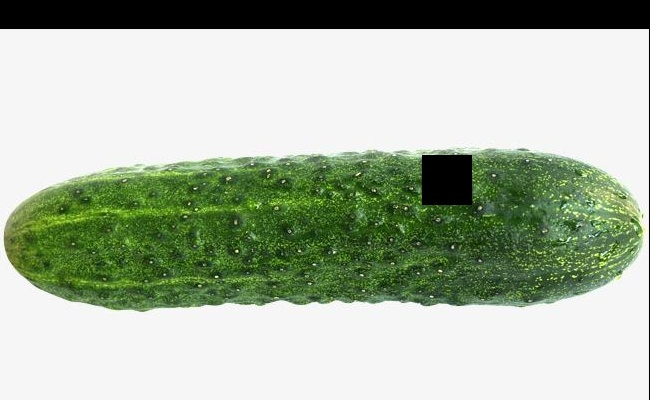cucumber: (4, 146, 644, 309)
